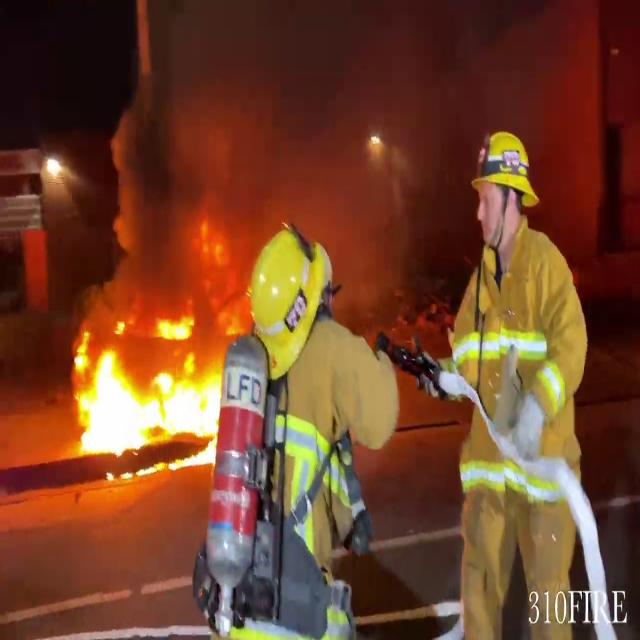Fire: (57, 314, 226, 466)
Smoke: (108, 0, 518, 300)
